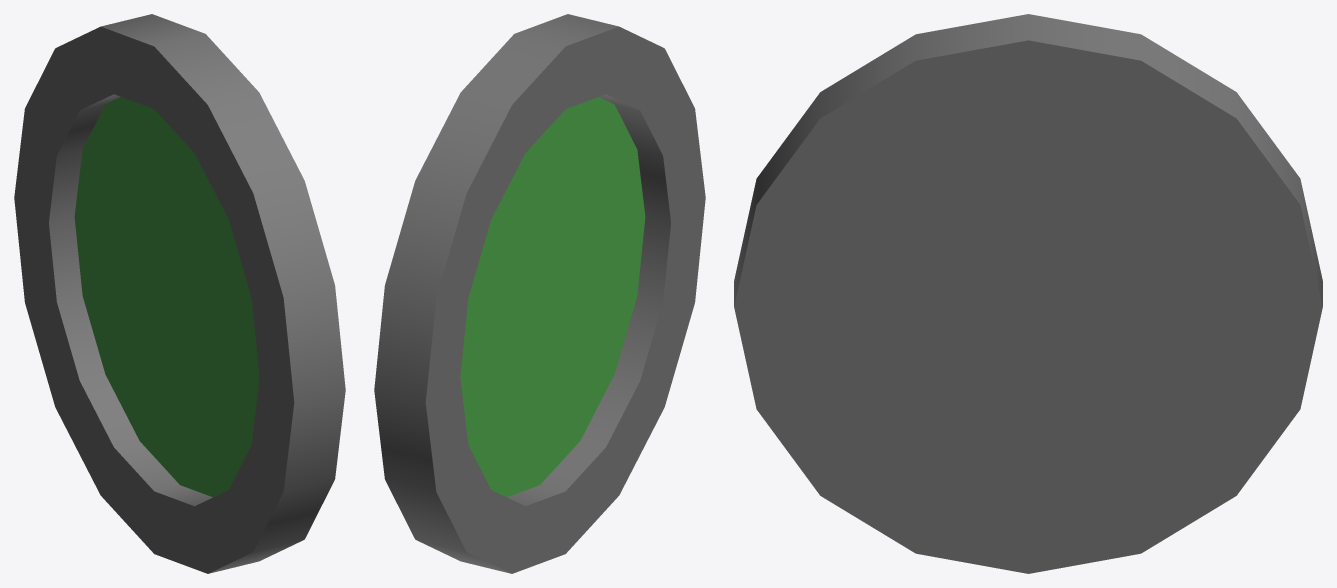
Rendered from painting_04.fbx.
3 renders of one model, left to right at view 1: azimuth 30°, elevation 25°; view 2: azimuth 150°, elevation 25°; view 3: azimuth 270°, elevation 25°, orthographic. The views are drawn at different scales.
Parts seen in each view (by area): view 1: painting_04; view 2: painting_04; view 3: painting_04.
Boxes of the visible parts, x1=… form: painting_04: x1=14, y1=14, x2=345, y2=573; painting_04: x1=374, y1=14, x2=705, y2=573; painting_04: x1=734, y1=14, x2=1322, y2=573.
Size of the model in its own units: 7 by 66 by 66.
